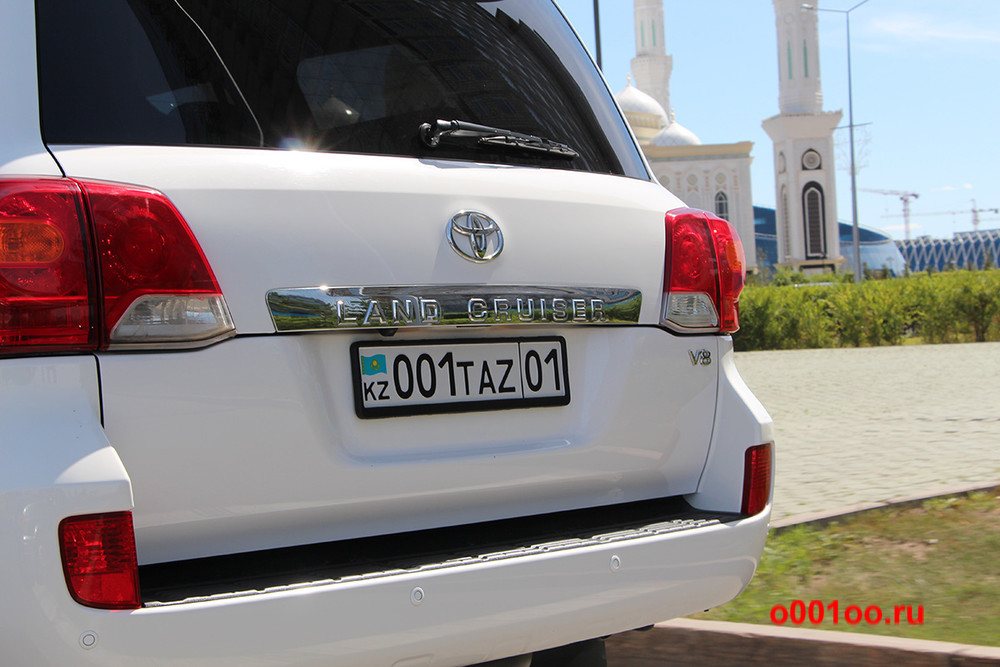license_plate: (355, 343, 574, 404)
